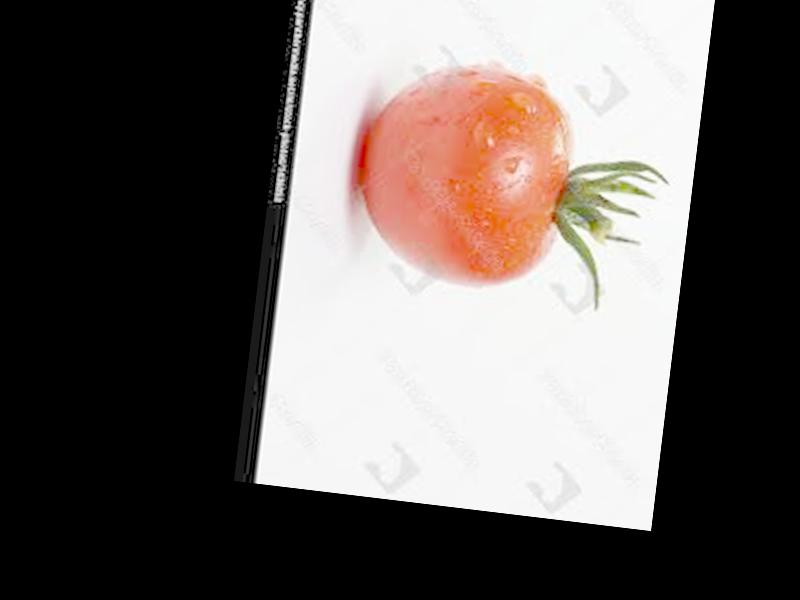Tomato: (346, 58, 578, 296)
